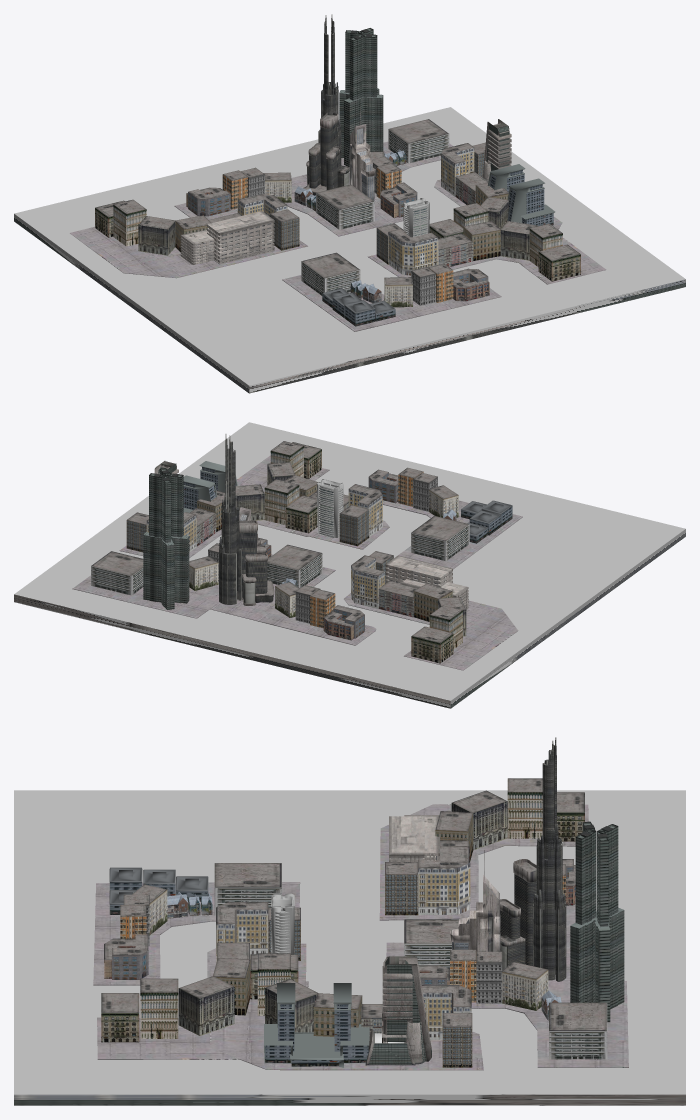
Rendered from TheCity.obj.
3 renders of one model, top to bottom at view 1: azimuth 30°, elevation 25°; view 2: azimuth 150°, elevation 25°; view 3: azimuth 270°, elevation 25°, orthographic. The views are drawn at different scales.
Visible parts, largest first — view 1: TheCity:bldgs2, TheCity:mesh01; view 2: TheCity:bldgs2, TheCity:mesh01; view 3: TheCity:bldgs2, TheCity:mesh01.
Part boxes in pixels (x1,y1,x2,y2): TheCity:bldgs2: [14, 14, 685, 393]; TheCity:mesh01: [70, 119, 606, 331]; TheCity:bldgs2: [14, 422, 685, 708]; TheCity:mesh01: [72, 441, 522, 670]; TheCity:bldgs2: [14, 737, 685, 1105]; TheCity:mesh01: [93, 778, 628, 1070].
Bounding box in the file's own units: 396 × 151 × 369.
